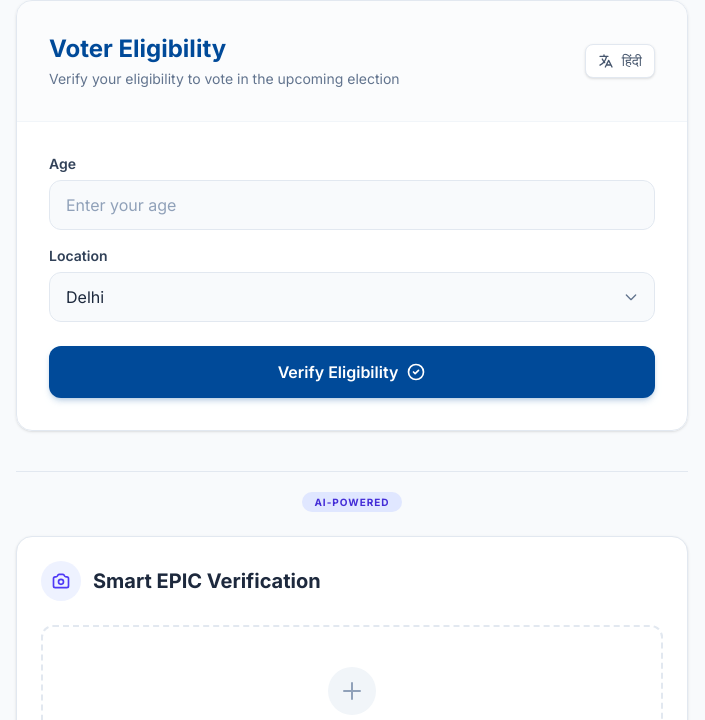
Test: EligibilityChecker Component › Interactions › should toggle language
What coordinates should you click on to do the following:
click the button named "switch to hindi"
I would click on:
 (620, 61)
Its box is [585,44,655,78].
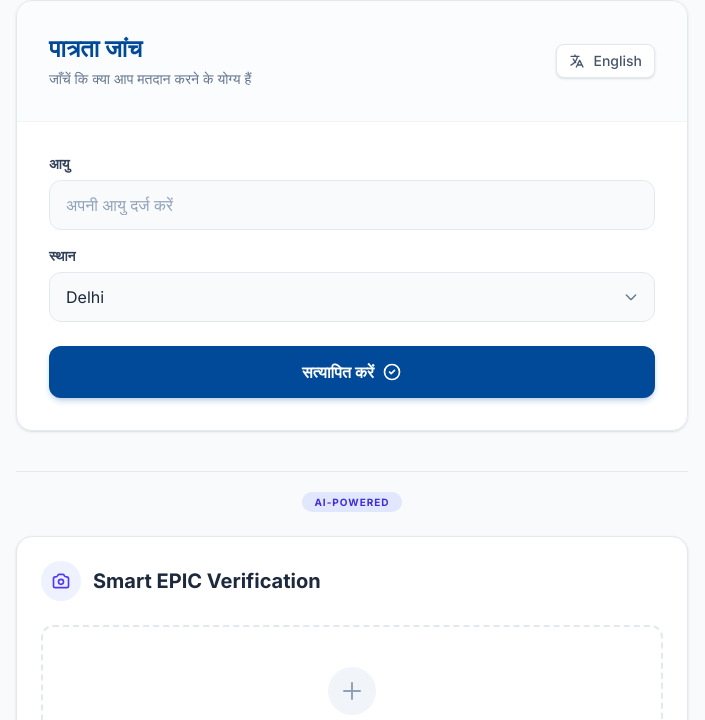
Check: the heading "पात्रता जांच" is shown, box [49,34,142,63]
